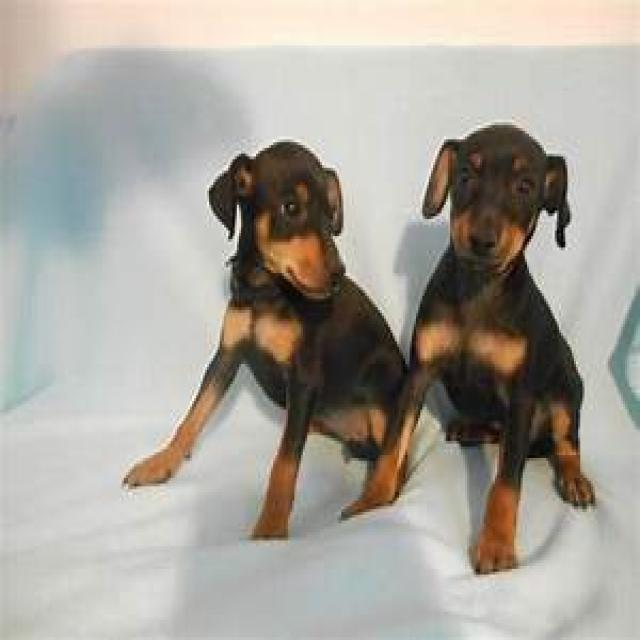dog: (124, 142, 410, 540), (350, 125, 595, 575)
